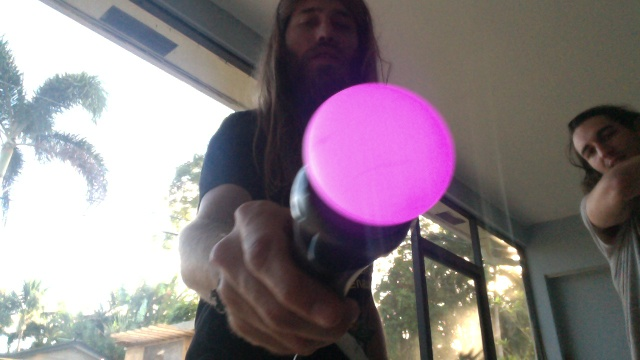wand: (302, 83, 455, 224)
